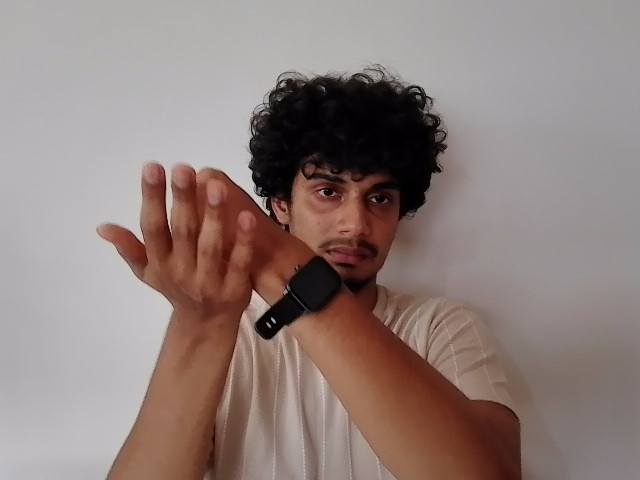help: (93, 161, 284, 310)
